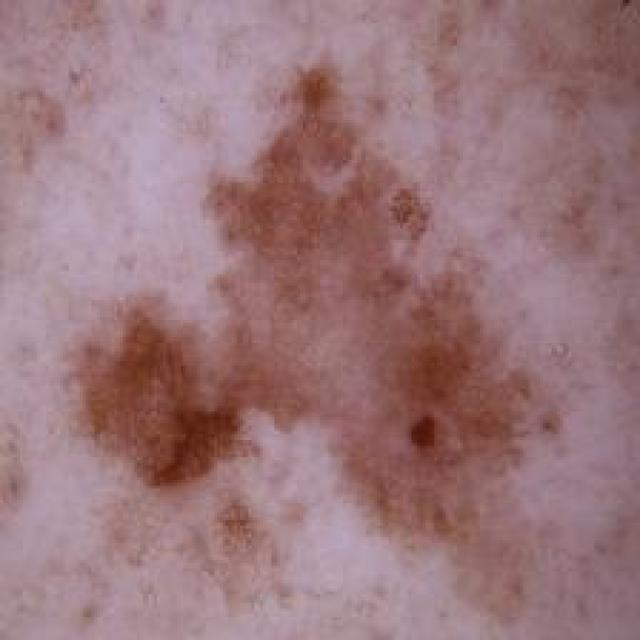Cancer: (64, 58, 552, 572)
